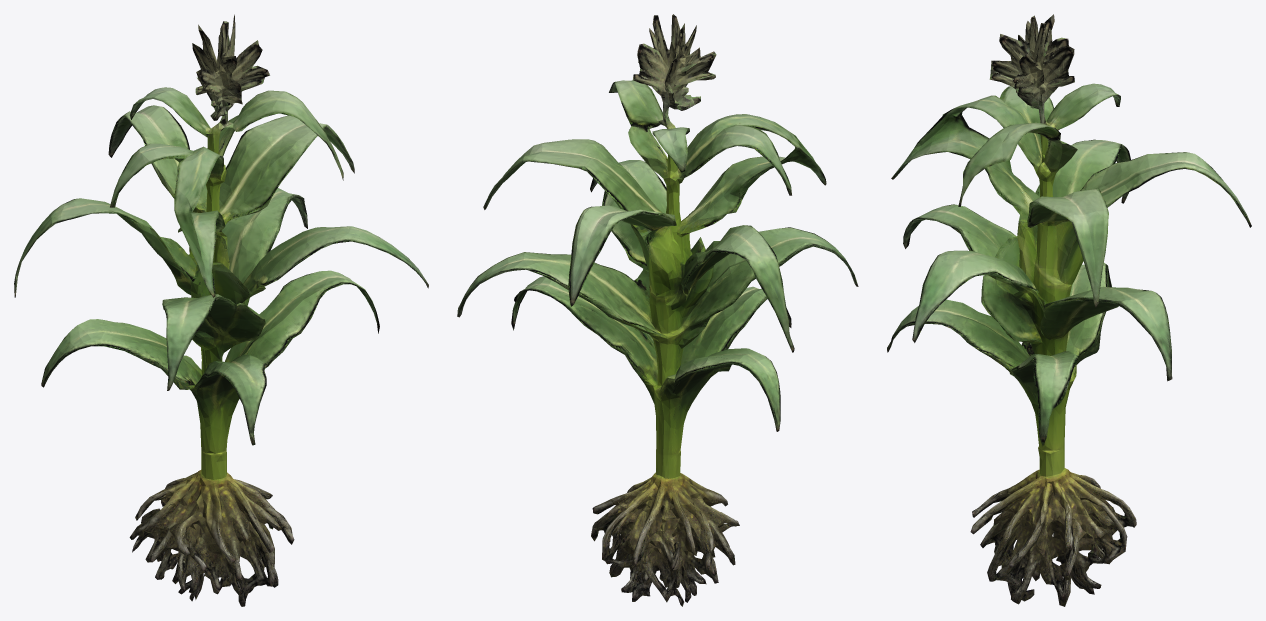
The model's file is 3d-corn-plant.glb.
3 renders of one model, left to right at view 1: azimuth 30°, elevation 25°; view 2: azimuth 150°, elevation 25°; view 3: azimuth 270°, elevation 25°, orthographic.
Parts seen in each view (by area): view 1: world; view 2: world; view 3: world.
Boxes of the visible parts, x1=… form: world: x1=14, y1=14, x2=428, y2=606; world: x1=457, y1=14, x2=858, y2=606; world: x1=887, y1=14, x2=1251, y2=606.
Bounding box in the file's own units: 0.5844 × 0.9921 × 0.5669.
1 material, 1 textured.
